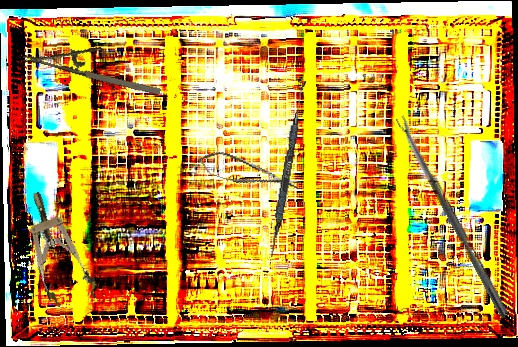Micro Scissor: (196, 146, 303, 201)
Needle Holder: (22, 27, 168, 100)
Spatula Surgical: (268, 79, 307, 259)
Speculum: (13, 184, 101, 312)
Surgical Spoon: (395, 114, 511, 320)
